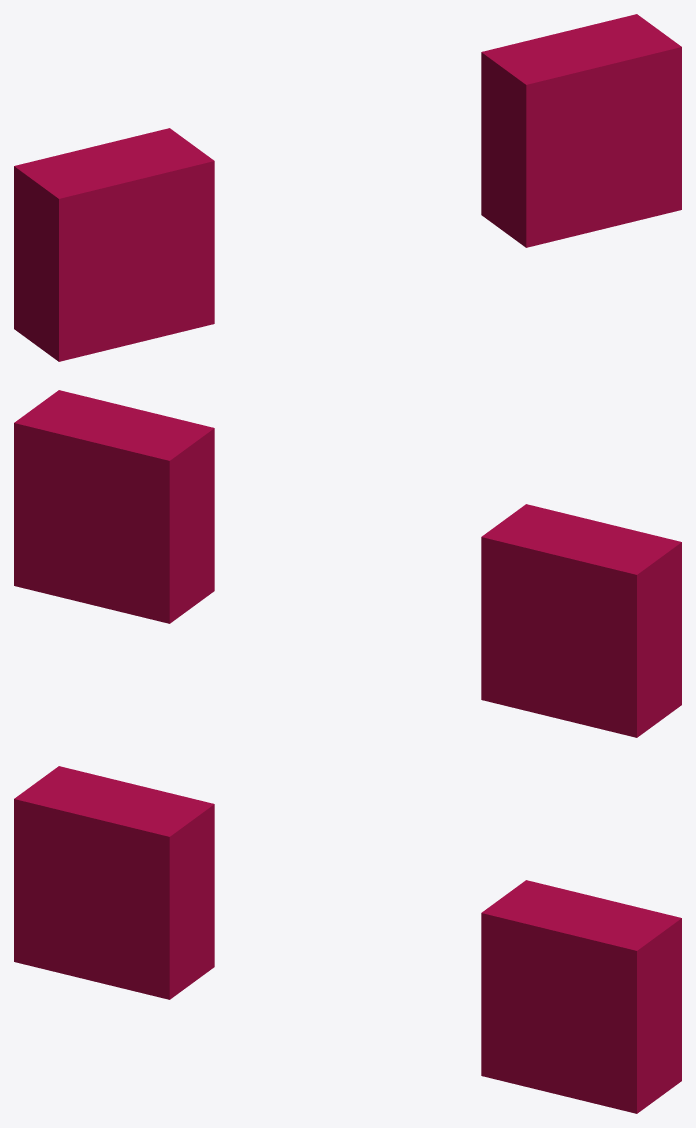
File: nave2-vermelho.obj
3 views of the same model, one above another, from view 1: azimuth 30°, elevation 25°; view 2: azimuth 150°, elevation 25°; view 3: azimuth 330°, elevation 25° (orthographic).
Size of the model in its own units: 0.8 by 0.2 by 0.1.
1 material, 1 textured.
